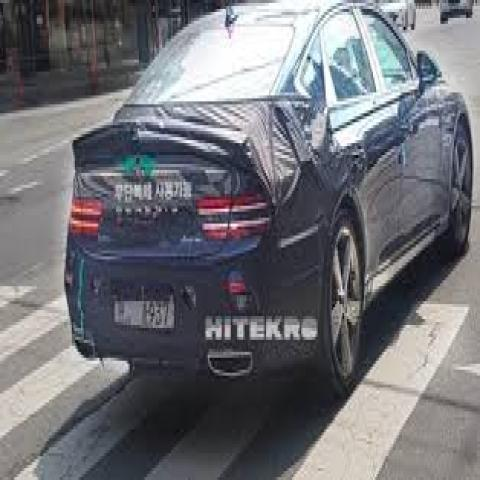LP: (112, 285, 177, 336)
